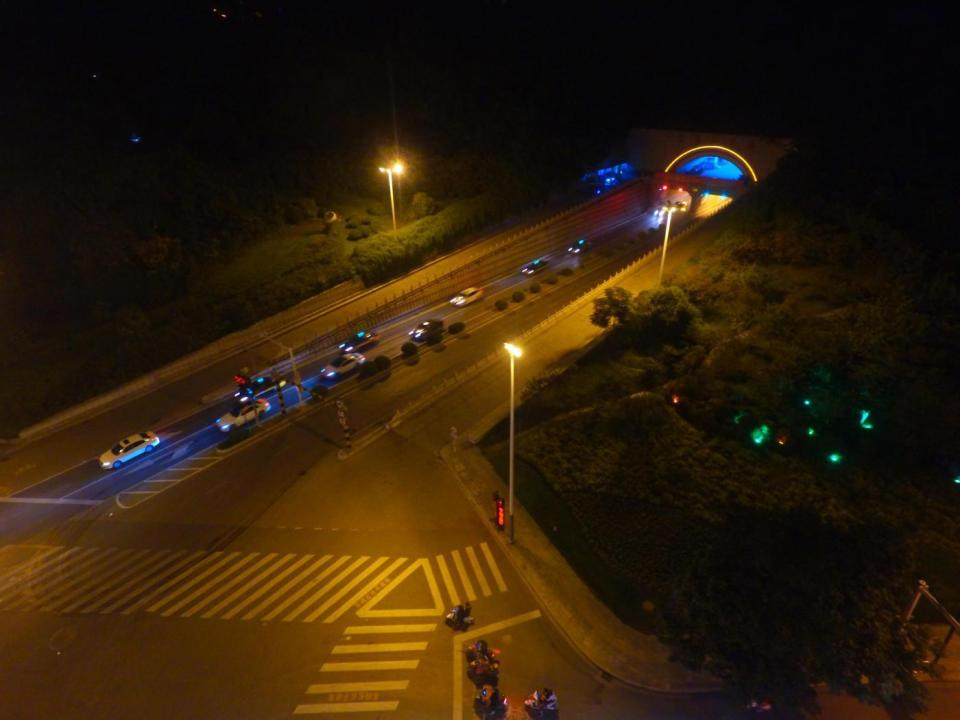car: (97, 430, 161, 472), (216, 399, 271, 434), (235, 374, 285, 407), (319, 352, 365, 382), (338, 332, 379, 356), (409, 319, 444, 342), (450, 286, 485, 306), (521, 260, 549, 276), (567, 239, 590, 255), (654, 206, 668, 217)
